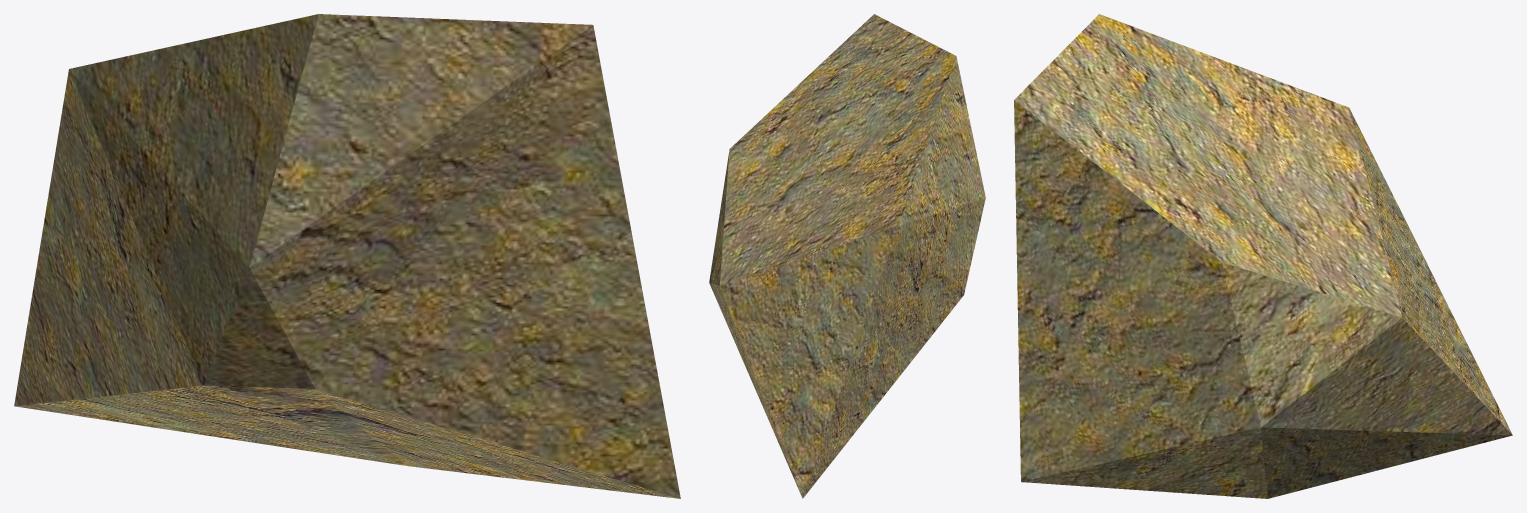
The model's file is rock7.fbx.
3 renders of one model, left to right at view 1: azimuth 30°, elevation 25°; view 2: azimuth 150°, elevation 25°; view 3: azimuth 270°, elevation 25°, orthographic. The views are drawn at different scales.
Parts seen in each view (by area): view 1: Rock7; view 2: Rock7; view 3: Rock7.
Part boxes in pixels (<box>): Rock7: <box>14,14,680,498</box>; Rock7: <box>709,14,985,498</box>; Rock7: <box>1014,14,1512,498</box>.
Bounding box in the file's own units: 9.25 × 12.88 × 13.72.
